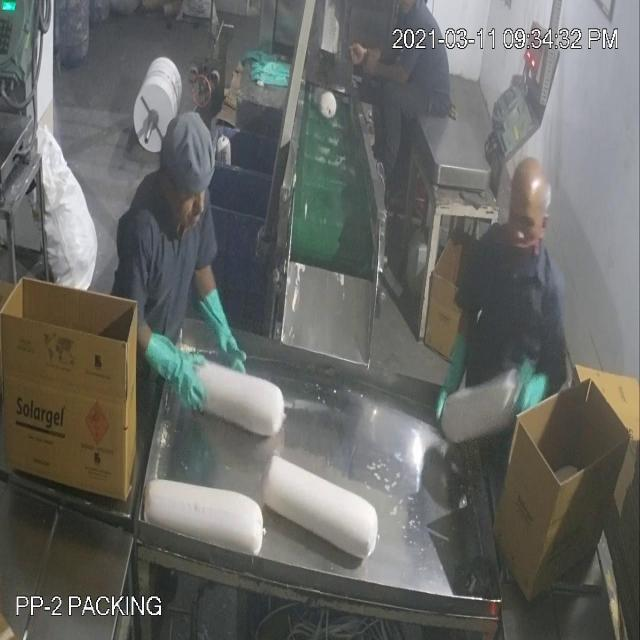No_Gloves: (58, 52, 374, 336)
